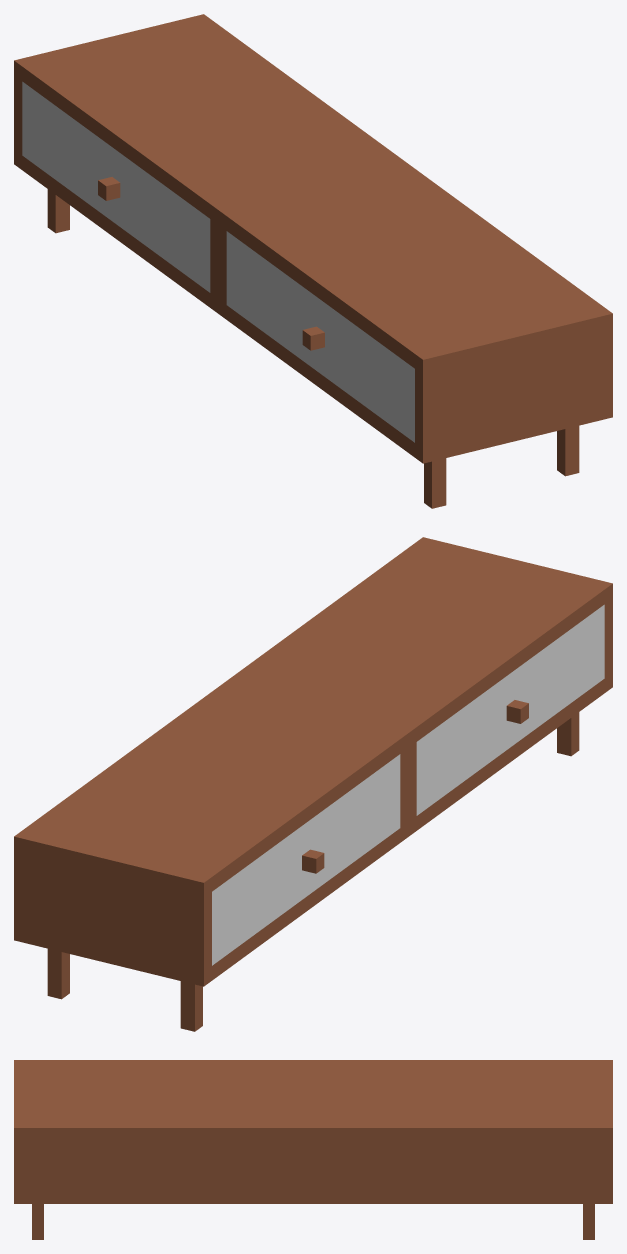
File: Armari Petit.fbx
3 views of the same model, one above another, from view 1: azimuth 30°, elevation 25°; view 2: azimuth 150°, elevation 25°; view 3: azimuth 270°, elevation 25° (orthographic). The views are drawn at different scales.
Parts seen in each view (by area): view 1: Cube.092, Cube.093, Cube.094; view 2: Cube.092, Cube.093, Cube.094; view 3: Cube.092.
Part boxes in pixels (x1=…): Cube.092: x1=14, y1=14, x2=612, y2=508; Cube.093: x1=22, y1=81, x2=210, y2=292; Cube.094: x1=226, y1=231, x2=414, y2=442; Cube.092: x1=14, y1=537, x2=612, y2=1031; Cube.093: x1=212, y1=754, x2=400, y2=965; Cube.094: x1=416, y1=604, x2=604, y2=815; Cube.092: x1=14, y1=1060, x2=612, y2=1239.
Bounding box in the file's own units: 2.88 × 2.2 × 10.
